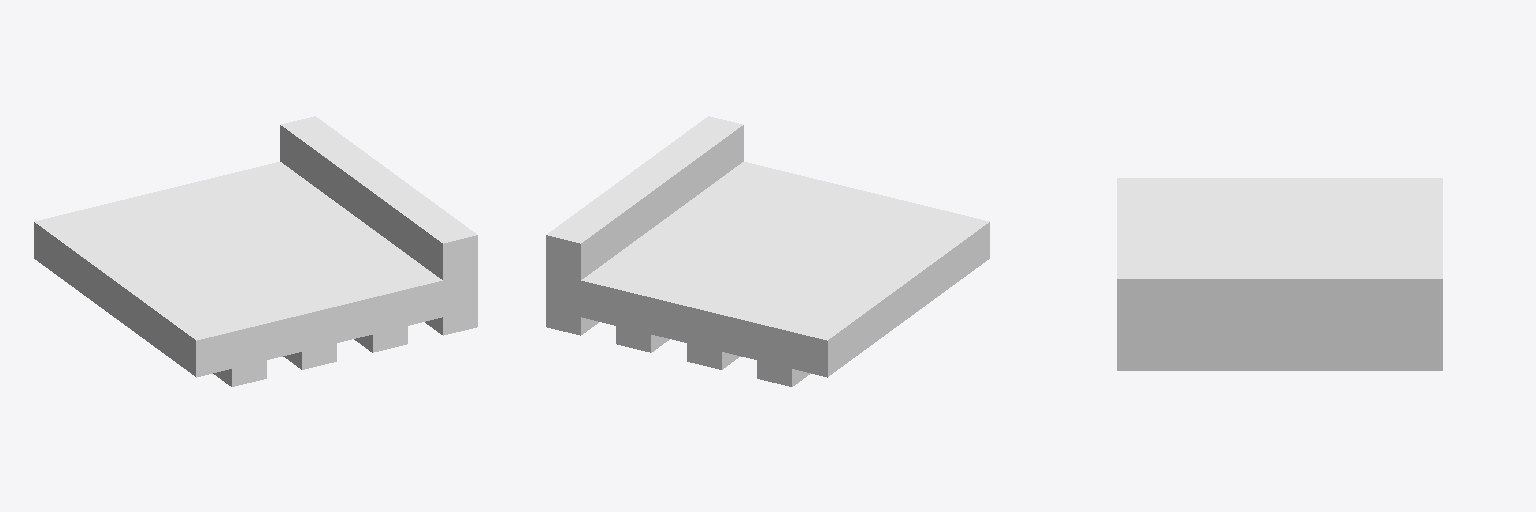
The model's file is CeilingBitsEdge2.obj.
3 views of the same model, side by side, from view 1: azimuth 30°, elevation 25°; view 2: azimuth 150°, elevation 25°; view 3: azimuth 270°, elevation 25° (orthographic).
Parts seen in each view (by area): view 1: object 1; view 2: object 1; view 3: object 1.
Part boxes in pixels (left/top/right/bottom): object 1: left=34, top=116, right=477, bottom=386; object 1: left=546, top=116, right=989, bottom=386; object 1: left=1117, top=178, right=1442, bottom=370.
Bounding box in the file's own units: 1.6 × 0.5 × 1.6.